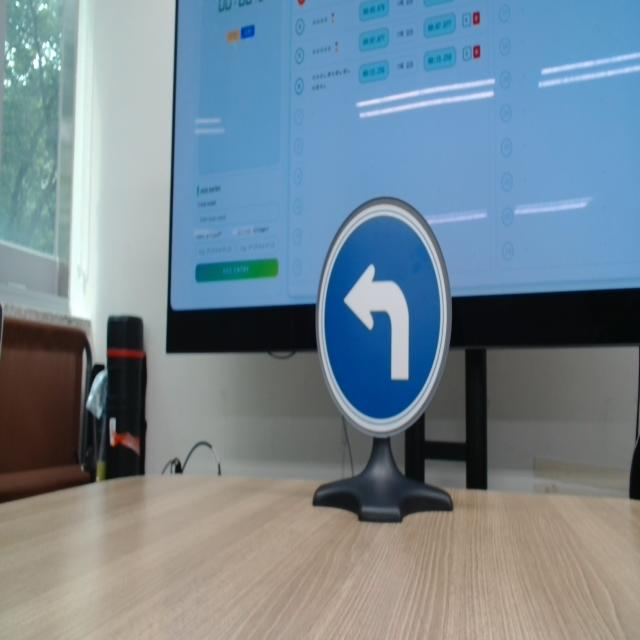left_direction: (309, 197, 464, 443)
